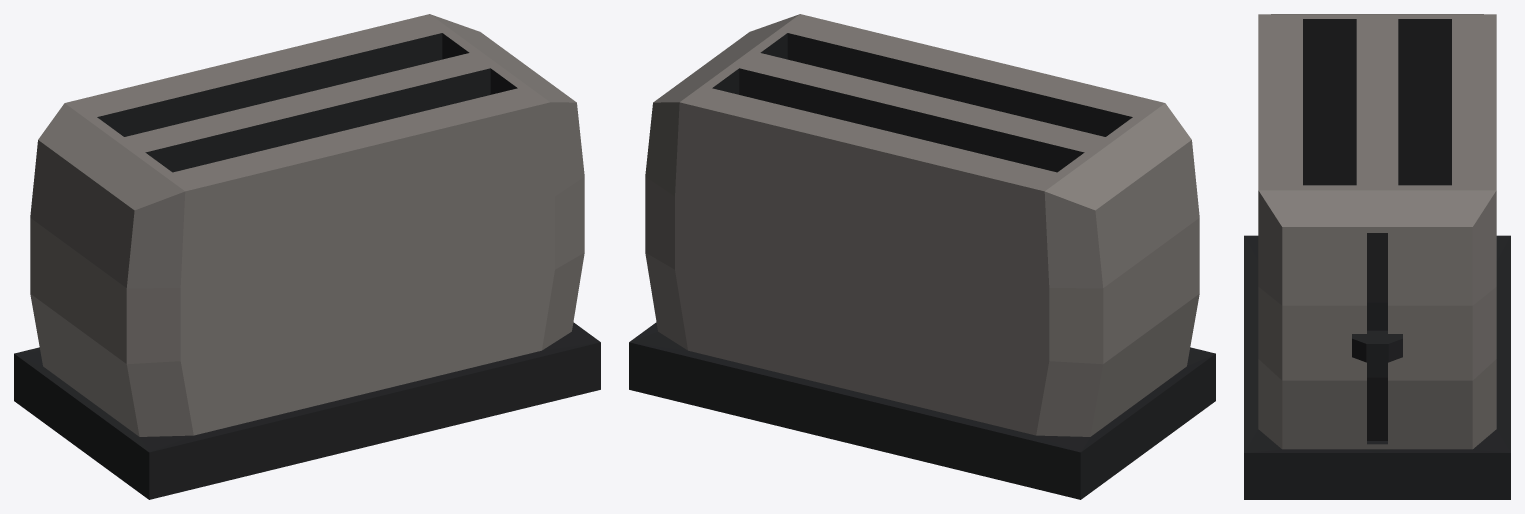
Rendered from toasteroawl_01_A.gltf.
The picture shows the model from 3 angles, left to right: view 1: azimuth 30°, elevation 25°; view 2: azimuth 150°, elevation 25°; view 3: azimuth 270°, elevation 25°; orthographic projection.
Parts seen in each view (by area): view 1: toasteroawl_01_A; view 2: toasteroawl_01_A; view 3: toasteroawl_01_A, Switchfortoasteroawl_01_A.
Part boxes in pixels (<box>): toasteroawl_01_A: <box>14,14,600,499</box>; toasteroawl_01_A: <box>629,14,1215,499</box>; toasteroawl_01_A: <box>1244,14,1510,499</box>; Switchfortoasteroawl_01_A: <box>1352,330,1402,362</box>.
Bounding box in the file's own units: 0.3437 × 0.2007 × 0.1679.
1 material, 1 textured.
